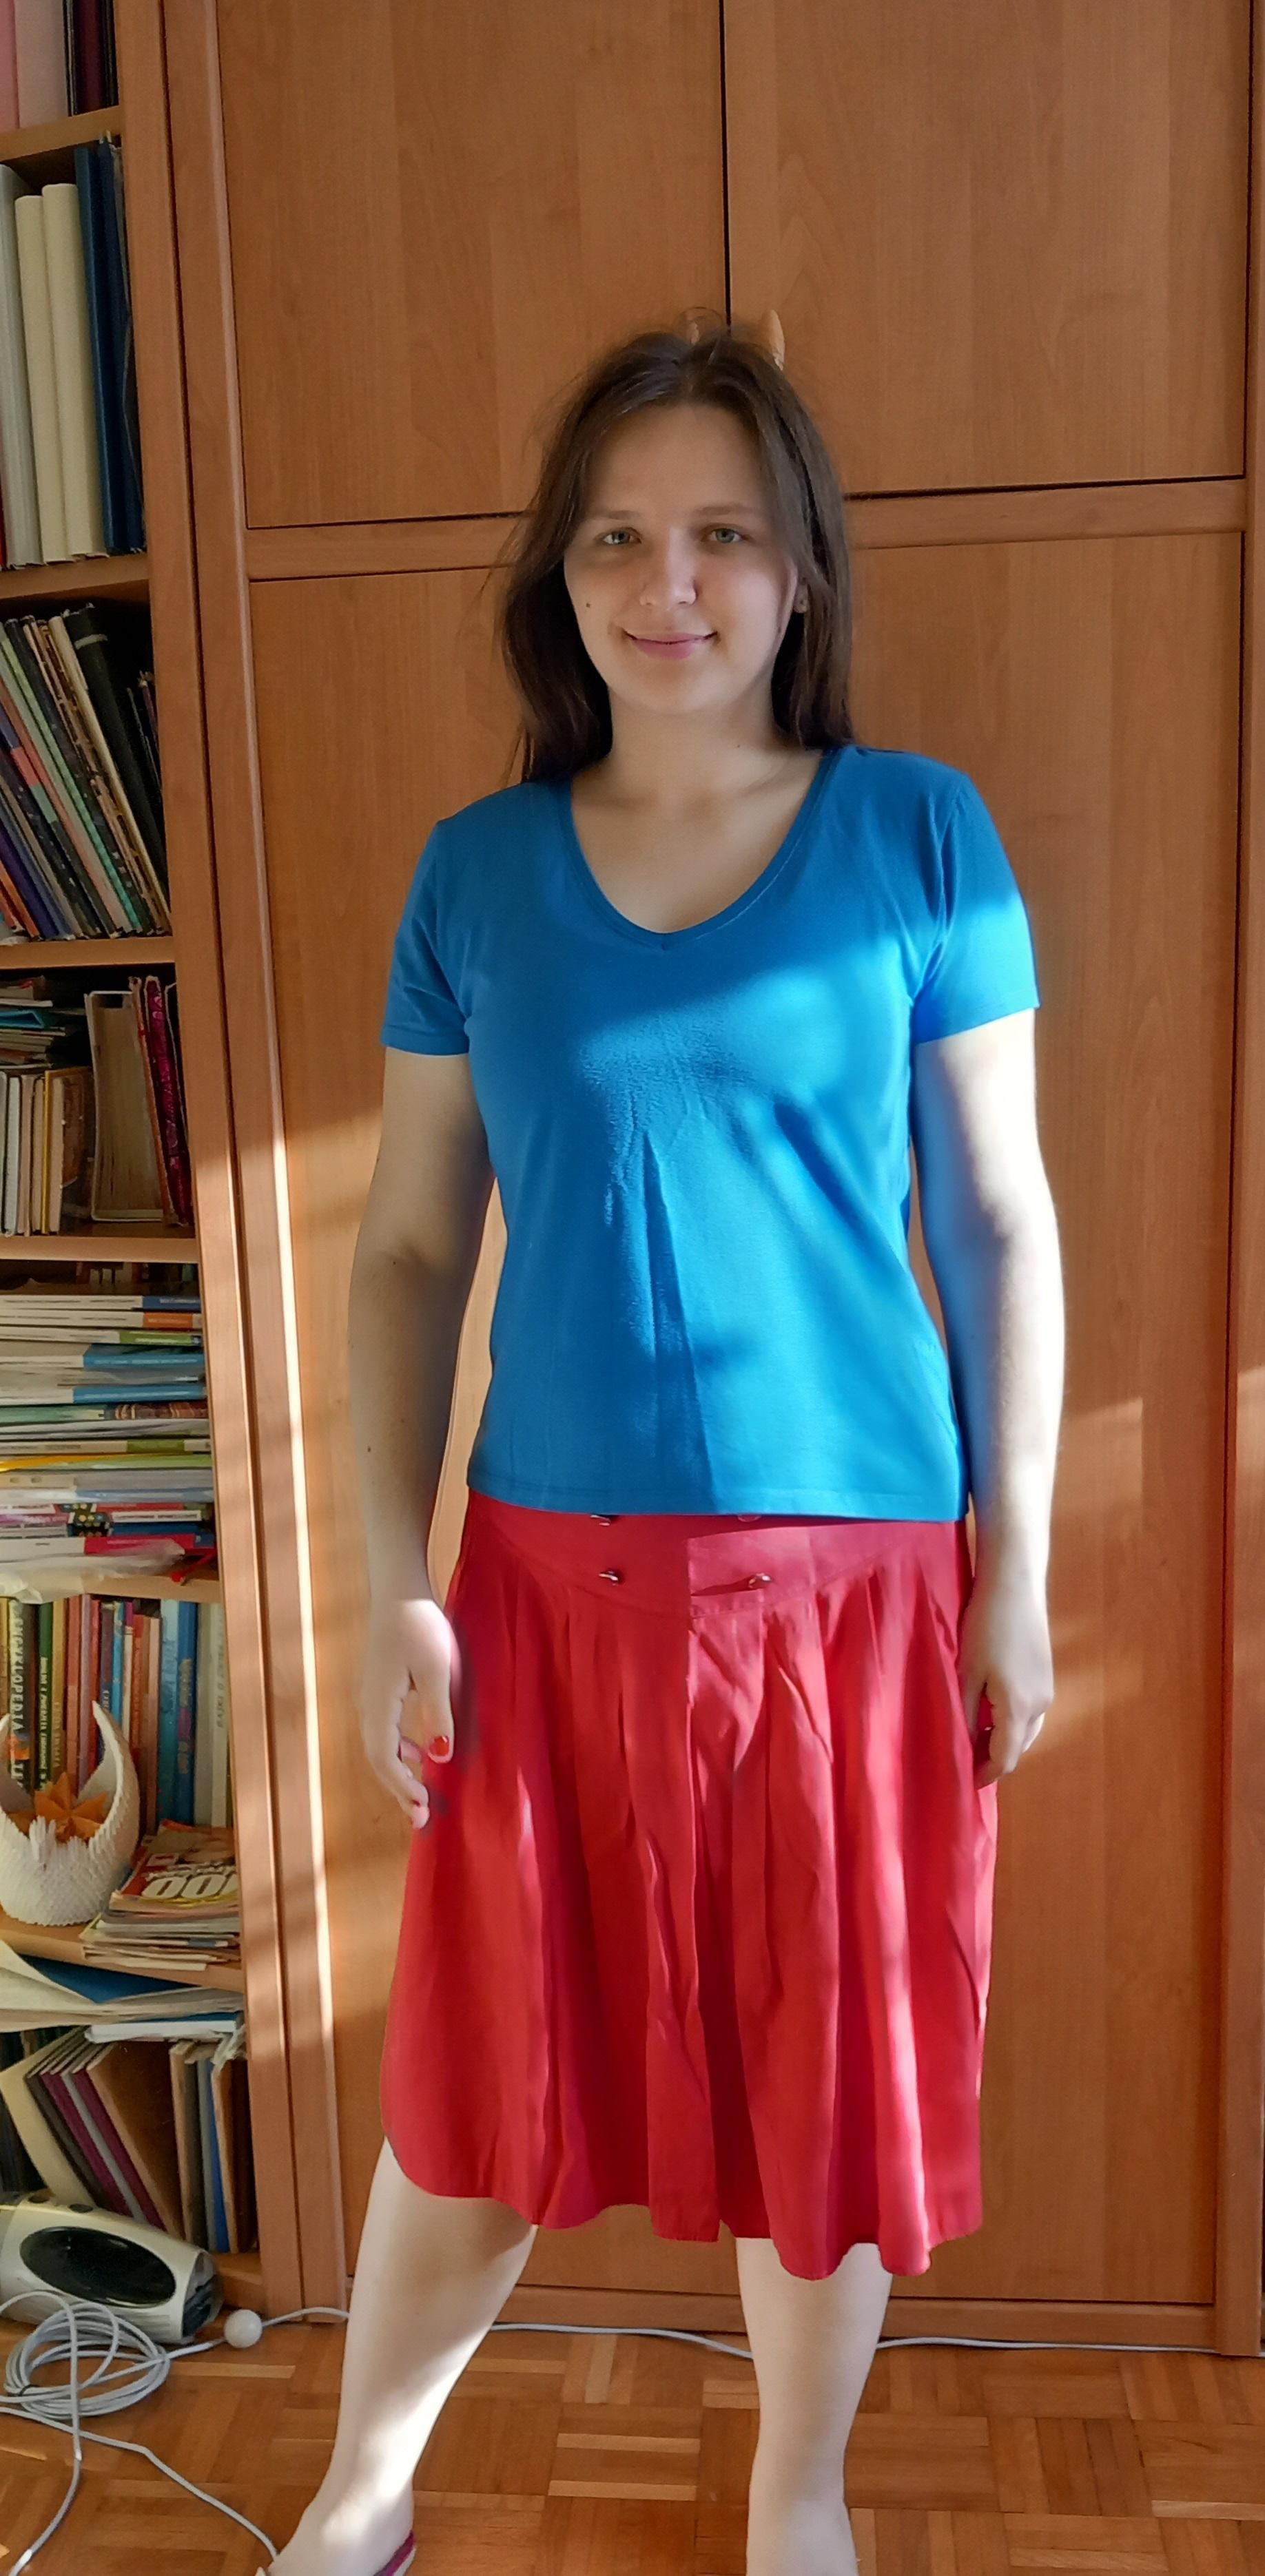Tshirt: (379, 743, 1042, 1525)
skirt: (378, 1488, 1002, 2279)
